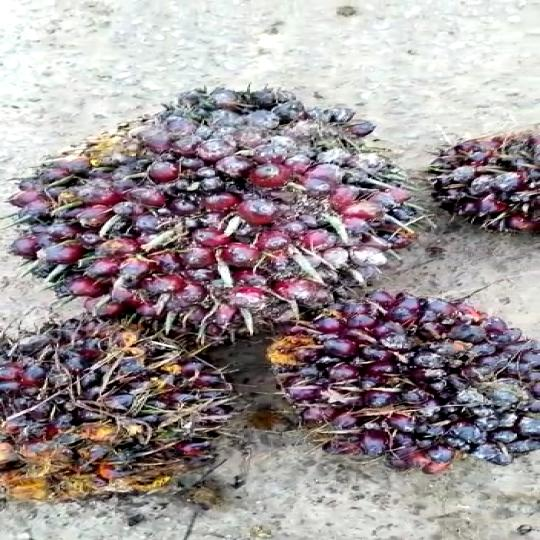kurang masak: (19, 73, 410, 345), (0, 309, 288, 536), (234, 277, 540, 475), (415, 110, 540, 241)
